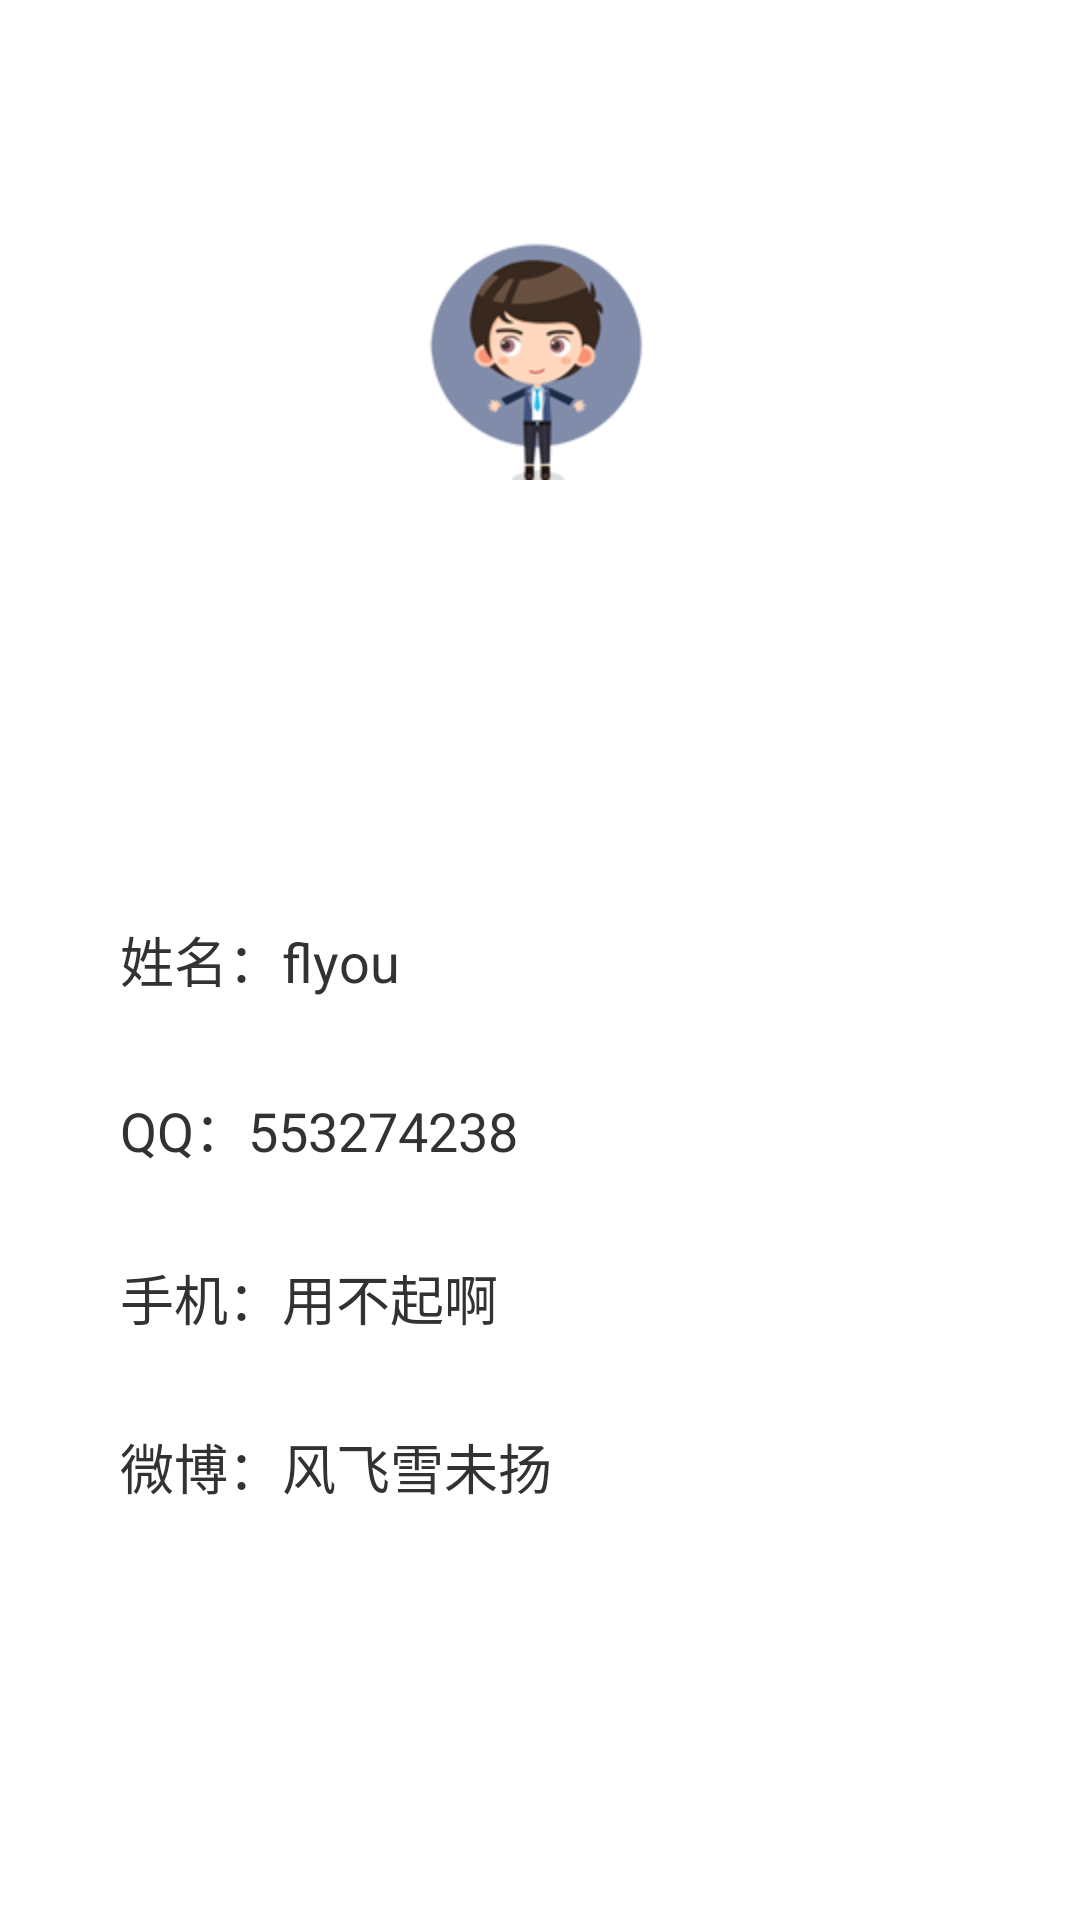

Where icons sit on this 1080*1920 app screen, as region(x1, y1, x2, y2):
myhead: region(430, 244, 642, 480)
